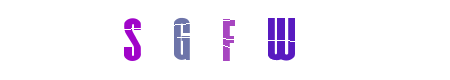F: (185, 0, 265, 80)
G: (144, 0, 224, 80)
S: (131, 0, 211, 80)
W: (241, 0, 321, 80)
